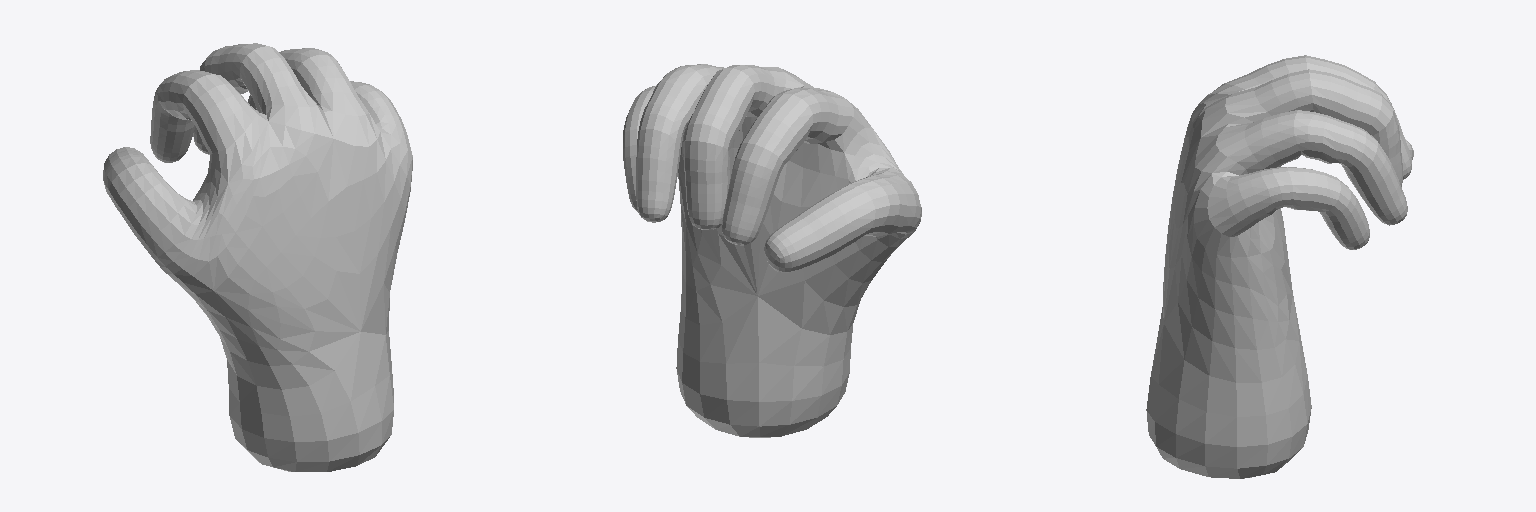
Rendered from hand17.obj.
The picture shows the model from 3 angles: view 1: azimuth 30°, elevation 25°; view 2: azimuth 150°, elevation 25°; view 3: azimuth 270°, elevation 25°; orthographic projection.
Visible parts, largest first — view 1: Cube; view 2: Cube; view 3: Cube.
Part boxes in pixels (x1,y1,x2,y2): Cube: (103, 43, 412, 471); Cube: (623, 64, 921, 437); Cube: (1146, 55, 1413, 478).
Bounding box in the file's own units: 3.22 × 4.56 × 2.85.